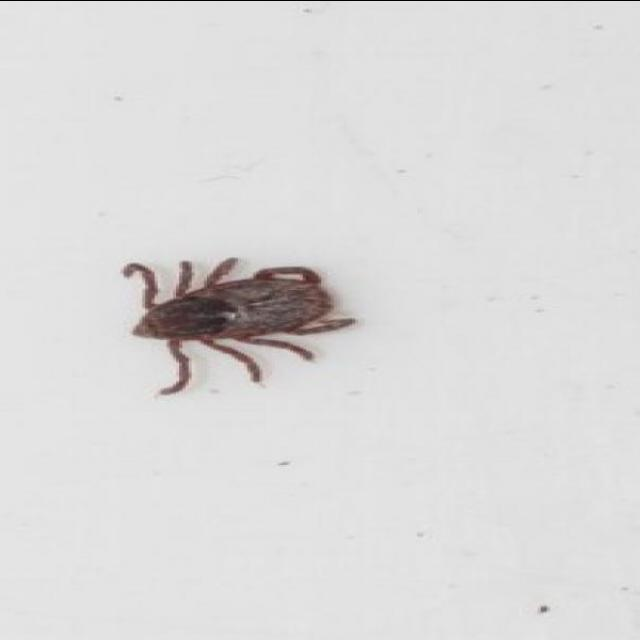Rhipicephalus Sanguineus-F: (124, 256, 361, 395)
